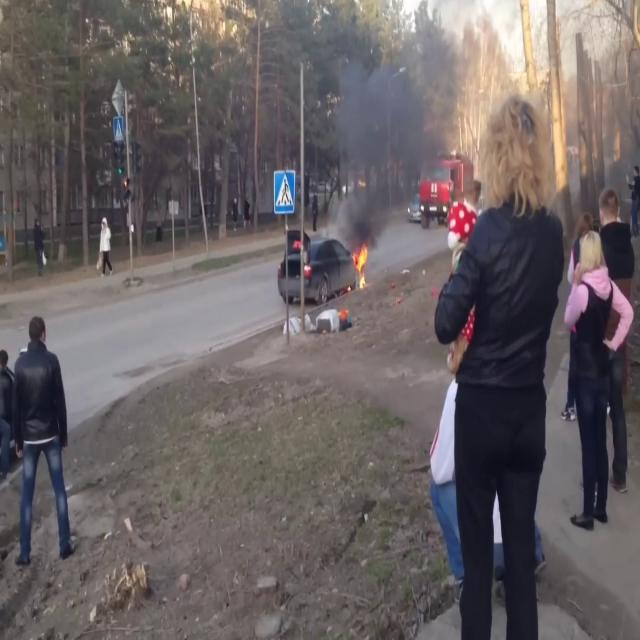fire: (352, 238, 370, 286)
smoke: (328, 35, 432, 242)
